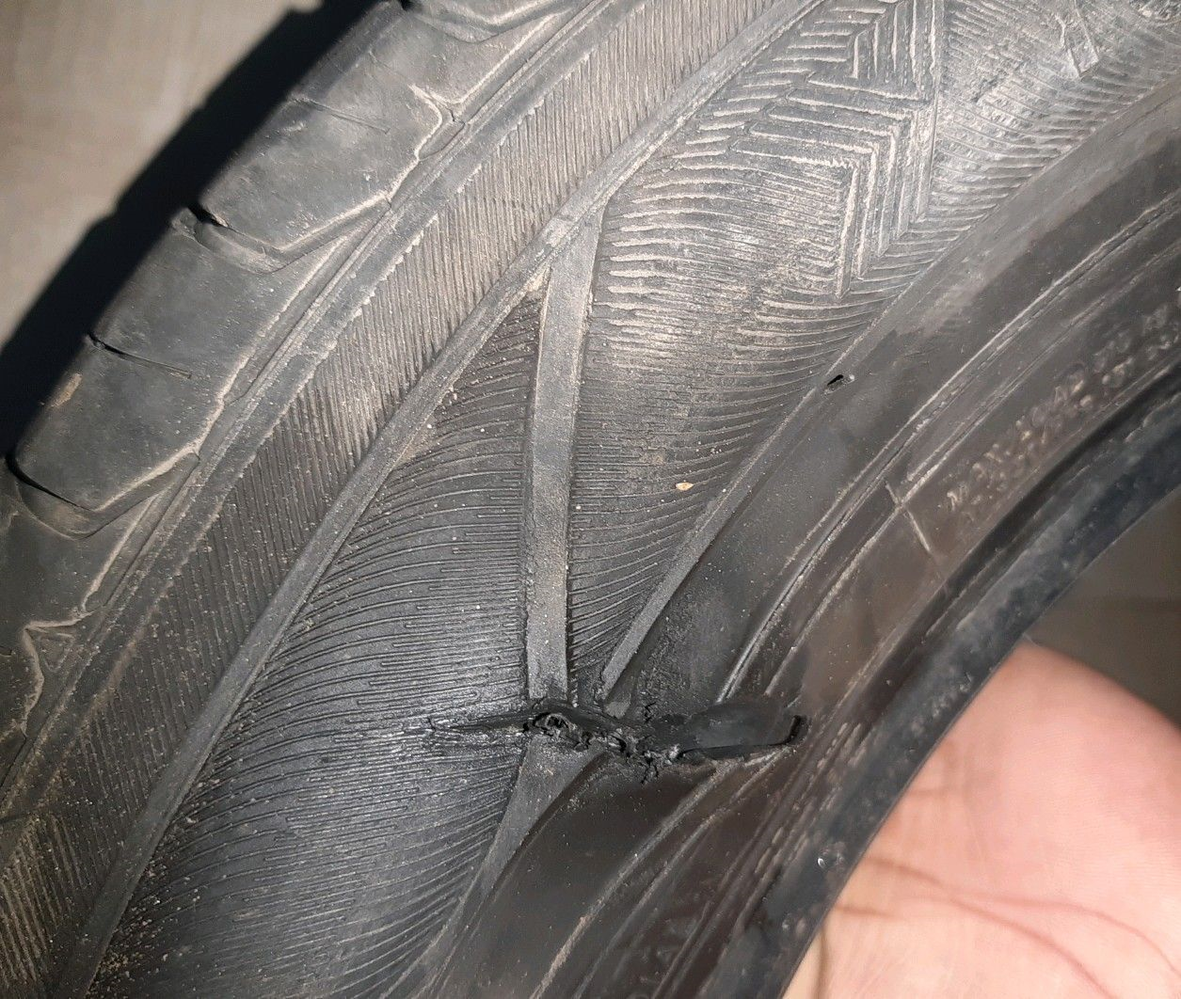cut: (440, 691, 816, 781)
